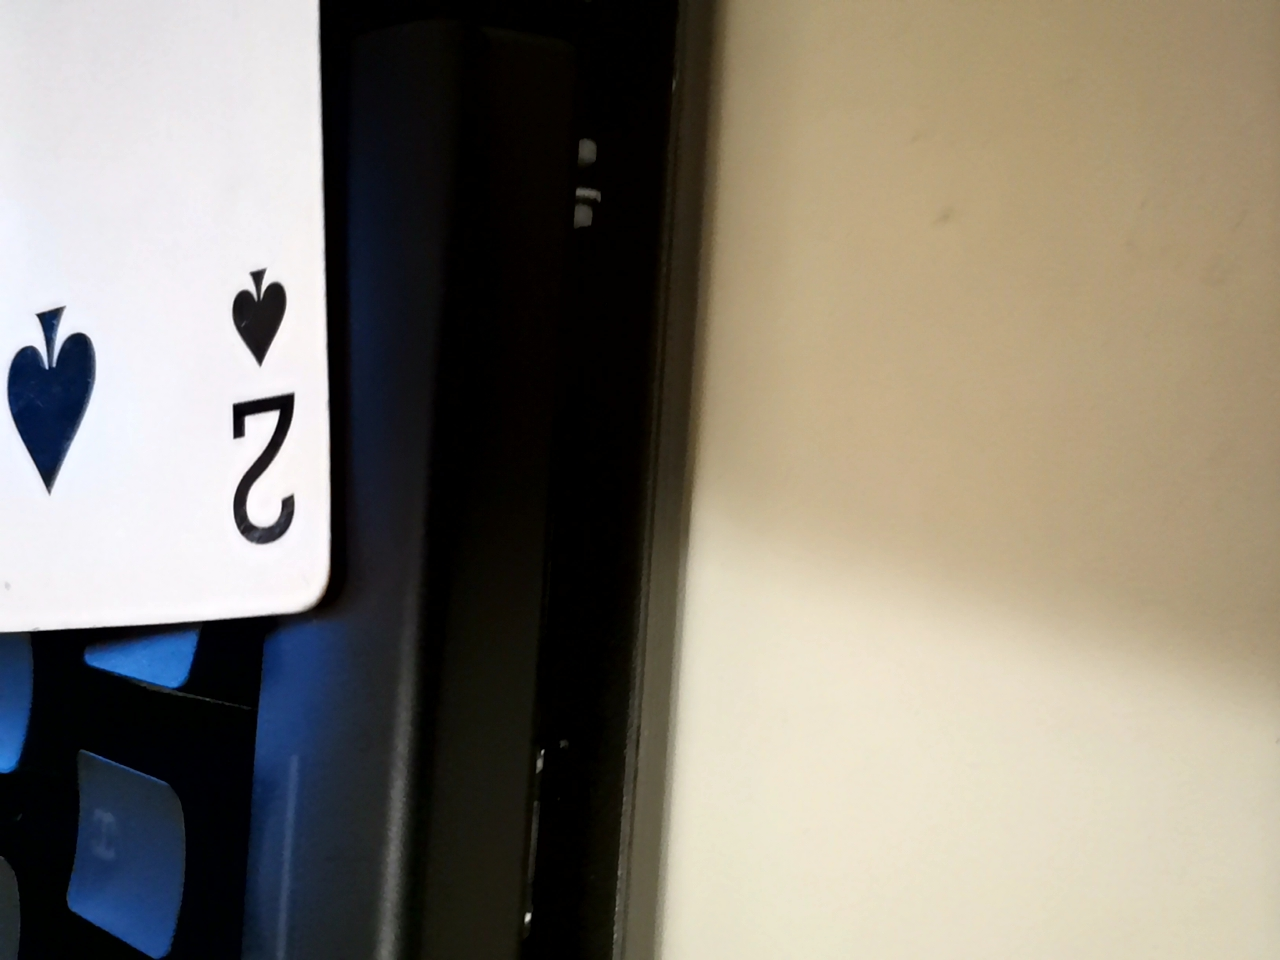ht 2: (0, 0, 338, 681)
